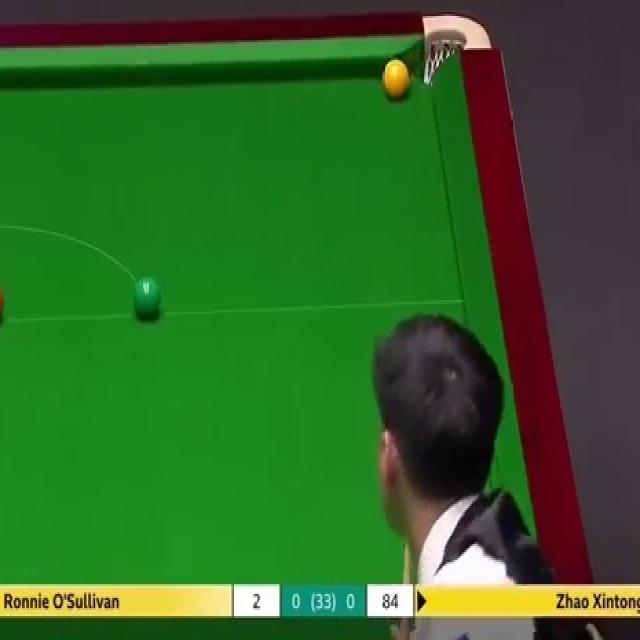green-ball: (132, 274, 162, 320)
yellow-ball: (381, 60, 409, 98)
